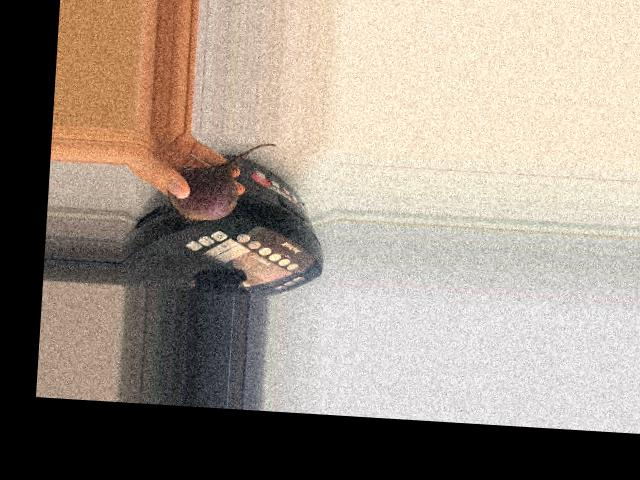beet: (166, 137, 276, 227)
